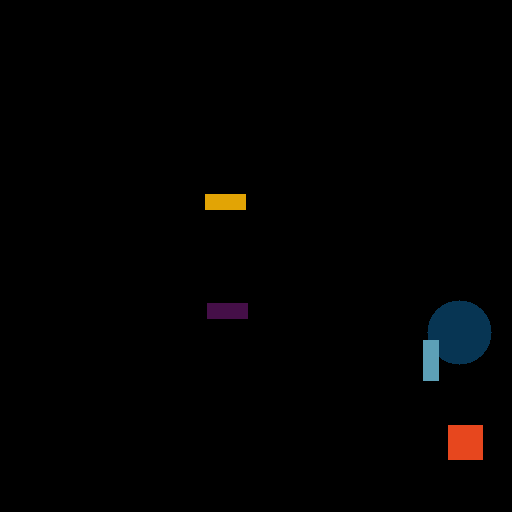circle: (426, 298, 496, 373)
side_rect: (201, 301, 270, 326), (199, 190, 252, 213)
square: (441, 420, 493, 469)
up_rect: (419, 338, 443, 384)
